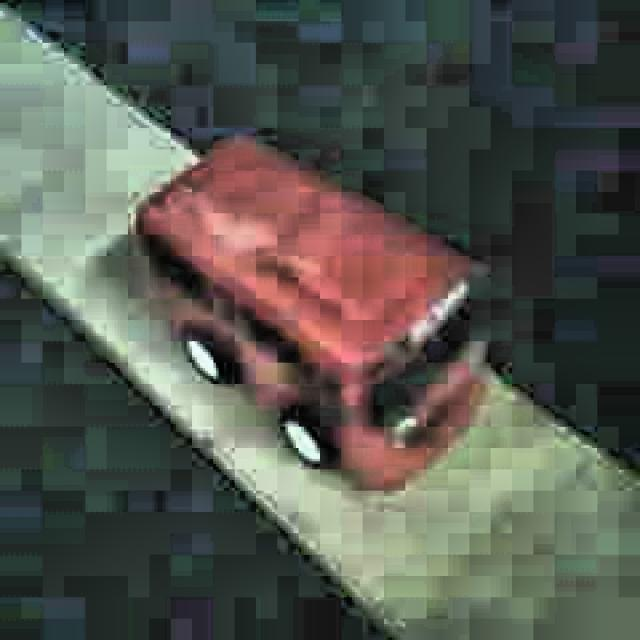bus: (134, 132, 492, 496)
